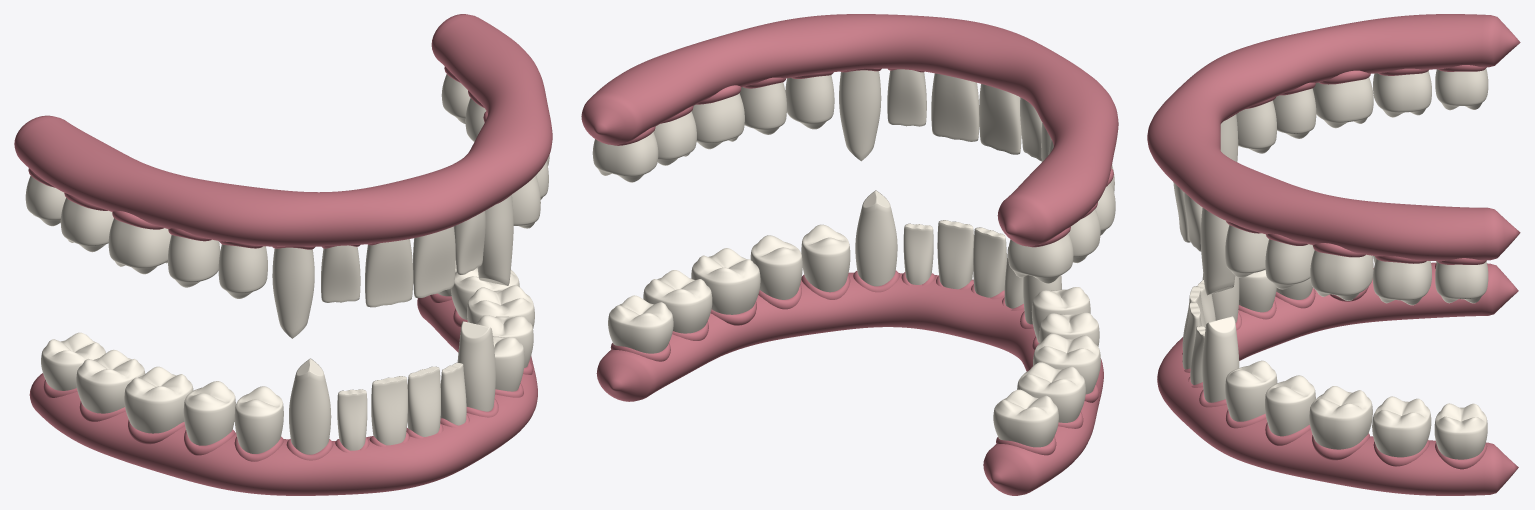
Rendered from arcada-v2.glb.
3 views of the same model, side by side, from view 1: azimuth 30°, elevation 25°; view 2: azimuth 150°, elevation 25°; view 3: azimuth 270°, elevation 25° (orthographic). The views are drawn at different scales.
Parts seen in each view (by area): view 1: gingiva_upper, gingiva_lower, tooth_46, tooth_43, tooth_13, tooth_11, tooth_47, tooth_33, tooth_45, tooth_44, tooth_21, tooth_16 (+19 smaller); view 2: gingiva_upper, gingiva_lower, tooth_33, tooth_36, tooth_23, tooth_38, tooth_48, tooth_21, tooth_37, tooth_34, tooth_11, tooth_35 (+19 smaller); view 3: gingiva_upper, gingiva_lower, tooth_36, tooth_37, tooth_38, tooth_33, tooth_26, tooth_35, tooth_16, tooth_34, tooth_27, tooth_17 (+22 smaller).
Boxes of the visible parts, x1=… form: gingiva_upper: x1=14, y1=14, x2=552, y2=246; gingiva_lower: x1=29, y1=295, x2=537, y2=495; tooth_46: x1=124, y1=366, x2=193, y2=433; tooth_43: x1=289, y1=358, x2=331, y2=454; tooth_13: x1=272, y1=247, x2=314, y2=338; tooth_11: x1=365, y1=239, x2=413, y2=307; tooth_47: x1=76, y1=349, x2=145, y2=413; tooth_33: x1=457, y1=321, x2=495, y2=411; tooth_45: x1=183, y1=381, x2=235, y2=445; tooth_44: x1=234, y1=386, x2=283, y2=453; tooth_21: x1=413, y1=226, x2=455, y2=297; tooth_16: x1=108, y1=218, x2=171, y2=274; gingiva_upper: x1=581, y1=14, x2=1118, y2=246; gingiva_lower: x1=596, y1=272, x2=1103, y2=495; tooth_33: x1=855, y1=190, x2=897, y2=286; tooth_36: x1=691, y1=248, x2=760, y2=314; tooth_23: x1=839, y1=70, x2=881, y2=161; tooth_38: x1=608, y1=295, x2=673, y2=353; tooth_48: x1=993, y1=389, x2=1058, y2=447; tooth_21: x1=931, y1=73, x2=979, y2=141; tooth_37: x1=643, y1=270, x2=712, y2=333; tooth_34: x1=801, y1=224, x2=850, y2=292; tooth_11: x1=979, y1=84, x2=1021, y2=154; tooth_35: x1=750, y1=235, x2=802, y2=299; gingiva_upper: x1=1147, y1=14, x2=1520, y2=261; gingiva_lower: x1=1157, y1=262, x2=1518, y2=495; tooth_36: x1=1309, y1=386, x2=1372, y2=449; tooth_37: x1=1372, y1=396, x2=1431, y2=457; tooth_38: x1=1434, y1=403, x2=1487, y2=459; tooth_33: x1=1202, y1=316, x2=1239, y2=402; tooth_26: x1=1310, y1=250, x2=1373, y2=300; tooth_35: x1=1265, y1=375, x2=1315, y2=436; tooth_16: x1=1312, y1=77, x2=1373, y2=128; tooth_34: x1=1225, y1=360, x2=1277, y2=421; tooth_27: x1=1373, y1=259, x2=1431, y2=305; tooth_17: x1=1373, y1=71, x2=1431, y2=117.
Size of the model in its own units: 4.8 by 2.89 by 3.4.
